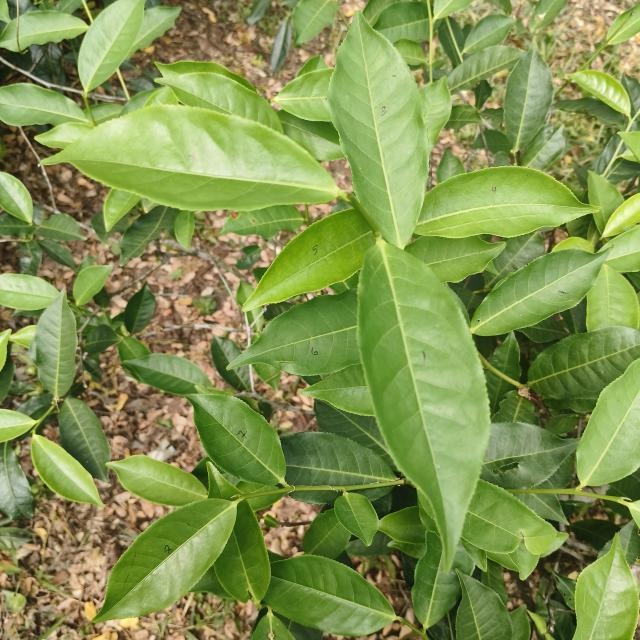Leaf: (357, 240, 490, 568), (46, 105, 340, 210), (328, 12, 429, 248), (96, 499, 236, 622), (245, 208, 374, 310), (415, 166, 596, 238), (470, 248, 606, 336), (228, 290, 360, 375), (264, 555, 395, 636), (528, 326, 640, 399), (576, 359, 640, 486), (160, 72, 282, 132), (573, 534, 639, 640), (462, 480, 555, 555), (480, 422, 578, 489), (281, 431, 396, 487), (78, 0, 144, 91), (214, 500, 271, 604), (504, 46, 554, 152), (31, 435, 104, 507), (106, 455, 207, 506), (32, 291, 77, 398), (412, 532, 461, 628), (406, 236, 506, 282), (58, 397, 111, 482), (456, 570, 512, 640), (300, 364, 374, 416), (0, 83, 88, 126), (0, 10, 89, 52), (586, 263, 640, 331), (447, 45, 523, 93), (123, 354, 211, 395), (119, 206, 178, 266), (484, 231, 545, 288), (276, 110, 344, 161), (274, 68, 333, 121), (568, 70, 630, 117), (222, 205, 303, 240), (127, 6, 181, 57), (0, 441, 34, 520), (302, 509, 351, 559), (587, 170, 624, 236), (419, 77, 452, 149), (334, 493, 379, 545), (374, 1, 429, 43), (211, 335, 250, 391), (555, 97, 624, 128), (0, 274, 59, 310), (520, 124, 566, 170), (292, 0, 338, 45), (462, 14, 515, 53), (379, 506, 426, 544), (0, 172, 33, 224), (492, 390, 539, 426), (488, 331, 521, 381), (513, 494, 568, 524), (124, 283, 156, 334), (603, 193, 640, 237), (571, 519, 620, 551), (35, 123, 94, 149), (73, 266, 112, 305), (103, 189, 139, 231), (607, 2, 640, 44), (251, 610, 295, 640), (519, 317, 569, 343), (90, 211, 129, 244), (37, 213, 84, 240), (38, 239, 76, 271), (0, 409, 35, 443), (270, 16, 291, 72), (485, 370, 512, 413), (530, 0, 567, 31), (207, 462, 238, 499), (84, 325, 119, 355), (436, 148, 465, 184), (446, 104, 482, 130), (118, 337, 151, 363), (394, 39, 426, 65), (0, 214, 35, 237), (19, 241, 42, 275), (174, 211, 194, 250), (434, 0, 472, 20), (621, 73, 640, 112), (236, 245, 262, 269), (9, 325, 36, 347), (299, 490, 335, 503), (358, 486, 391, 500)
